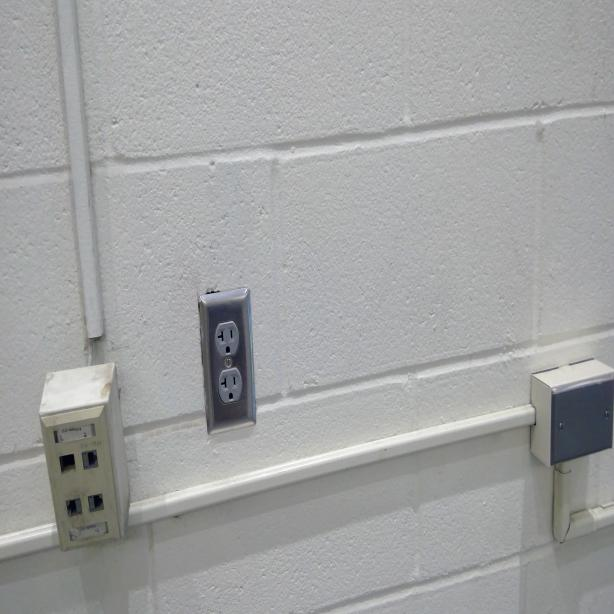typeb: (214, 318, 240, 356), (219, 368, 243, 405)
